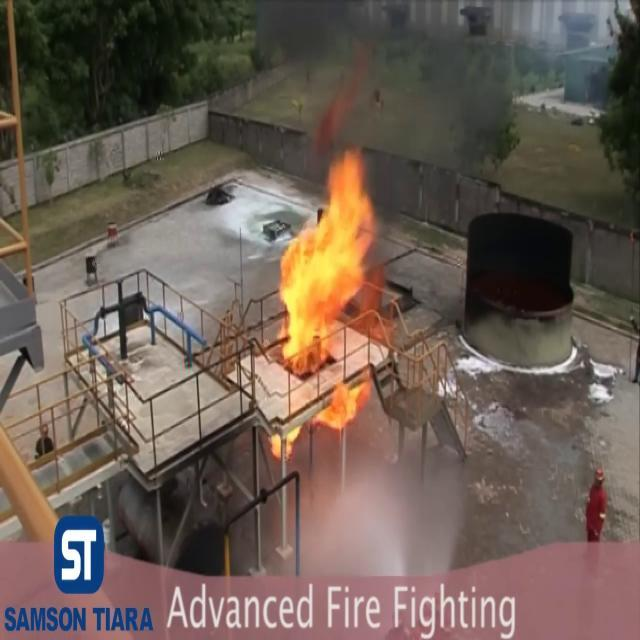Fire: (264, 138, 398, 442)
